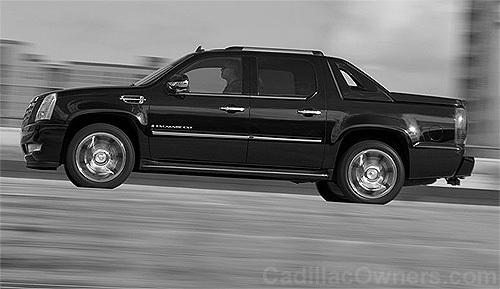car: (22, 46, 477, 207)
